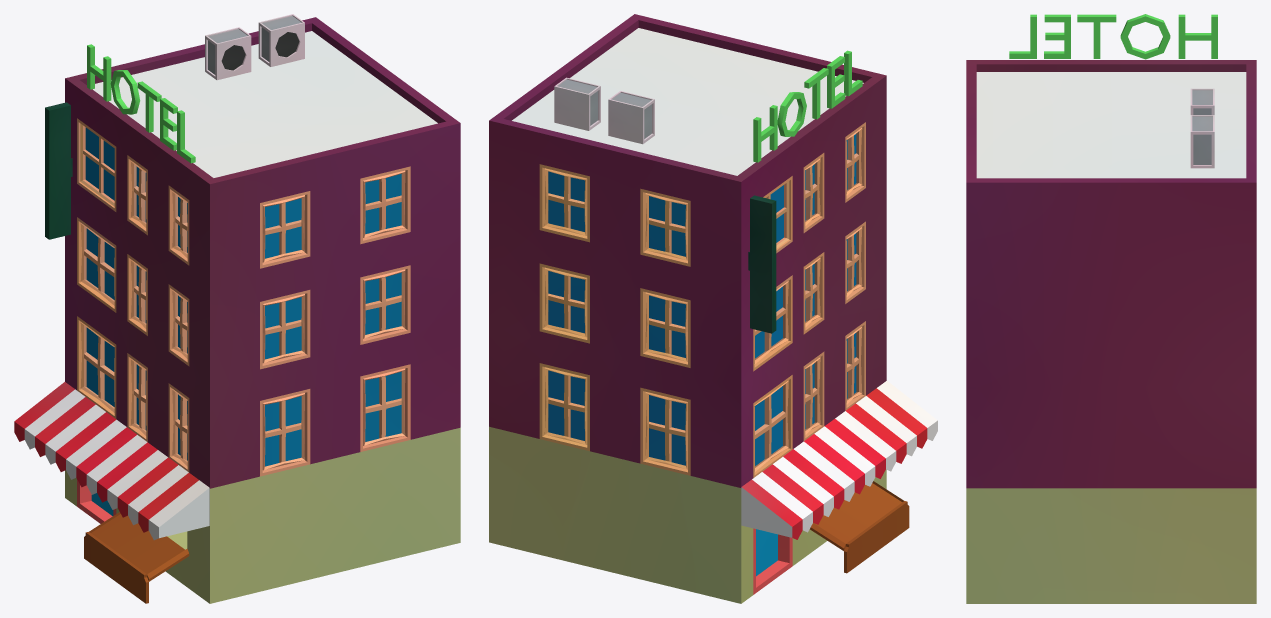
The model's file is hotel_small_night.glb.
The picture shows the model from 3 angles, left to right: view 1: azimuth 30°, elevation 25°; view 2: azimuth 150°, elevation 25°; view 3: azimuth 270°, elevation 25°; orthographic projection.
Visible parts, largest first — view 1: hotel_small; view 2: hotel_small; view 3: hotel_small.
Part boxes in pixels (left/top/right/bottom): hotel_small: left=14, top=14, right=460, bottom=603; hotel_small: left=489, top=14, right=937, bottom=603; hotel_small: left=966, top=14, right=1256, bottom=603.
Size of the model in its own units: 2.4 by 3.58 by 2.
2 materials, 1 textured.
